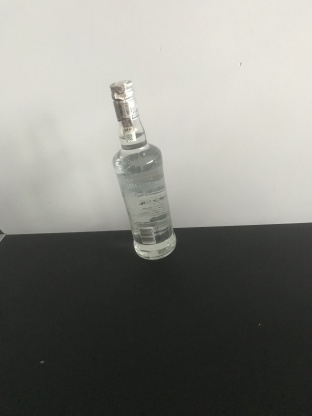nakretka: (108, 78, 140, 123)
